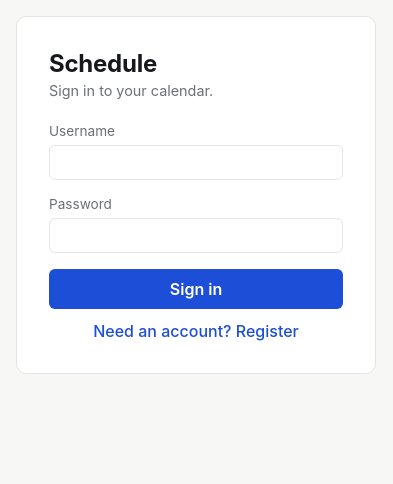
it: App › switches to the register form
The width and height of the screenshot is (393, 484).
Click the button "Need an account? Register".
click(196, 325)  # box [49, 309, 343, 341]
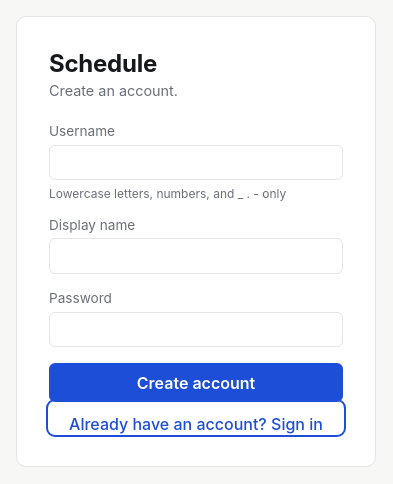
Expected: the button "Create account" is shown, [49, 363, 343, 402]
Expected: the field labelled "Display name" is shown, [49, 238, 343, 274]
